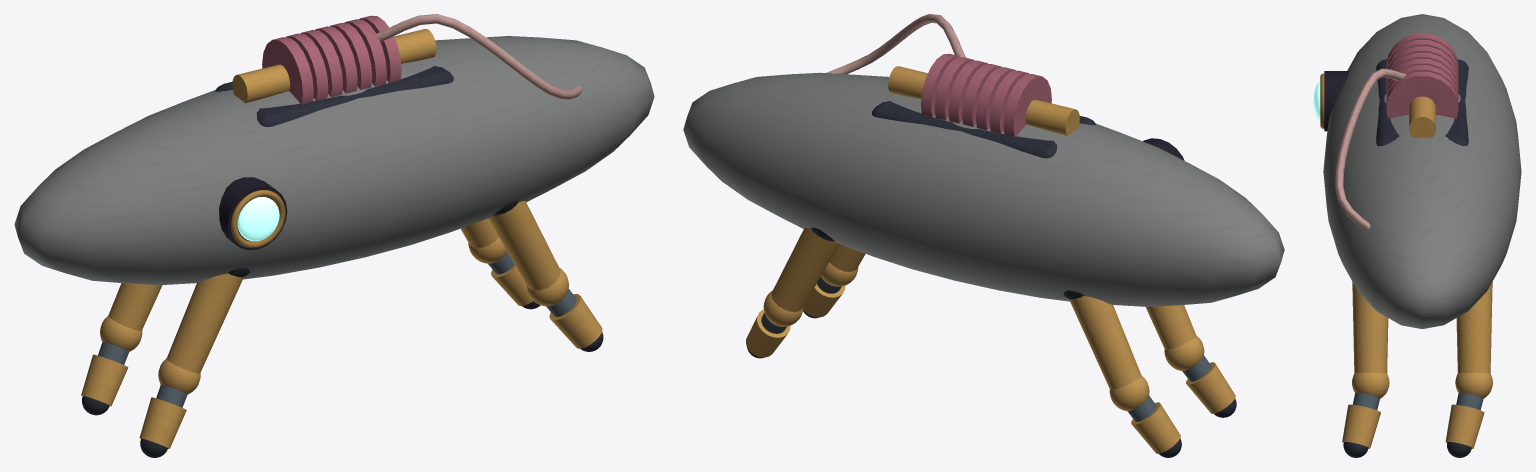
Rendered from shuttle.glb.
3 renders of one model, left to right at view 1: azimuth 30°, elevation 25°; view 2: azimuth 150°, elevation 25°; view 3: azimuth 270°, elevation 25°, orthographic. The views are drawn at different scales.
Visible parts, largest first — view 1: Weaving shuttle, Upper link (×4), Thread wrap (×7), Forearm sleeve (×4), Spool spindle, Bobbin well, Elbow bearing (×3), Loose thread, Barrel, Optical glass, Lens bezel; view 2: Weaving shuttle, Upper link (×4), Thread wrap (×7), Forearm sleeve (×4), Elbow bearing (×3), Spool spindle, Bobbin well, Loose thread; view 3: Weaving shuttle, Thread wrap (×7), Upper link (×2), Forearm sleeve (×2), Bobbin well, Loose thread, Elbow bearing (×2), Spool spindle, Barrel, Forearm piston (×2), Wrist bearing (×2), Lens bezel (+1 smaller).
Part boxes in pixels (<box>): Weaving shuttle: <box>14,36,654,285</box>; Upper link (×4): <box>108,201,560,373</box>; Thread wrap (×7): <box>262,15,401,104</box>; Forearm sleeve (×4): <box>81,265,602,448</box>; Spool spindle: <box>232,29,436,103</box>; Bobbin well: <box>215,66,453,127</box>; Elbow bearing (×3): <box>100,268,568,394</box>; Loose thread: <box>376,14,582,99</box>; Barrel: <box>219,177,287,250</box>; Optical glass: <box>237,197,279,241</box>; Lens bezel: <box>231,190,285,247</box>; Weaving shuttle: <box>683,72,1284,306</box>; Upper link (×4): <box>771,228,1196,389</box>; Thread wrap (×7): <box>921,53,1051,137</box>; Forearm sleeve (×4): <box>746,284,1235,453</box>; Elbow bearing (×3): <box>763,290,1204,411</box>; Spool spindle: <box>888,66,1079,135</box>; Bobbin well: <box>872,101,1095,158</box>; Loose thread: <box>826,14,965,74</box>; Weaving shuttle: <box>1323,14,1521,329</box>; Thread wrap (×7): <box>1386,33,1458,118</box>; Upper link (×2): <box>1352,282,1492,373</box>; Forearm sleeve (×2): <box>1342,404,1484,448</box>; Bobbin well: <box>1376,59,1468,145</box>; Loose thread: <box>1335,68,1406,230</box>; Elbow bearing (×2): <box>1352,372,1492,398</box>; Spool spindle: <box>1409,96,1435,137</box>; Barrel: <box>1324,71,1349,131</box>; Forearm piston (×2): <box>1353,392,1483,410</box>; Wrist bearing (×2): <box>1343,442,1471,457</box>; Lens bezel: <box>1320,73,1324,128</box>.
Bounding box in the file's own units: 1.34 × 0.7355 × 0.4305.
Materials: 10 (9 with a texture image).
